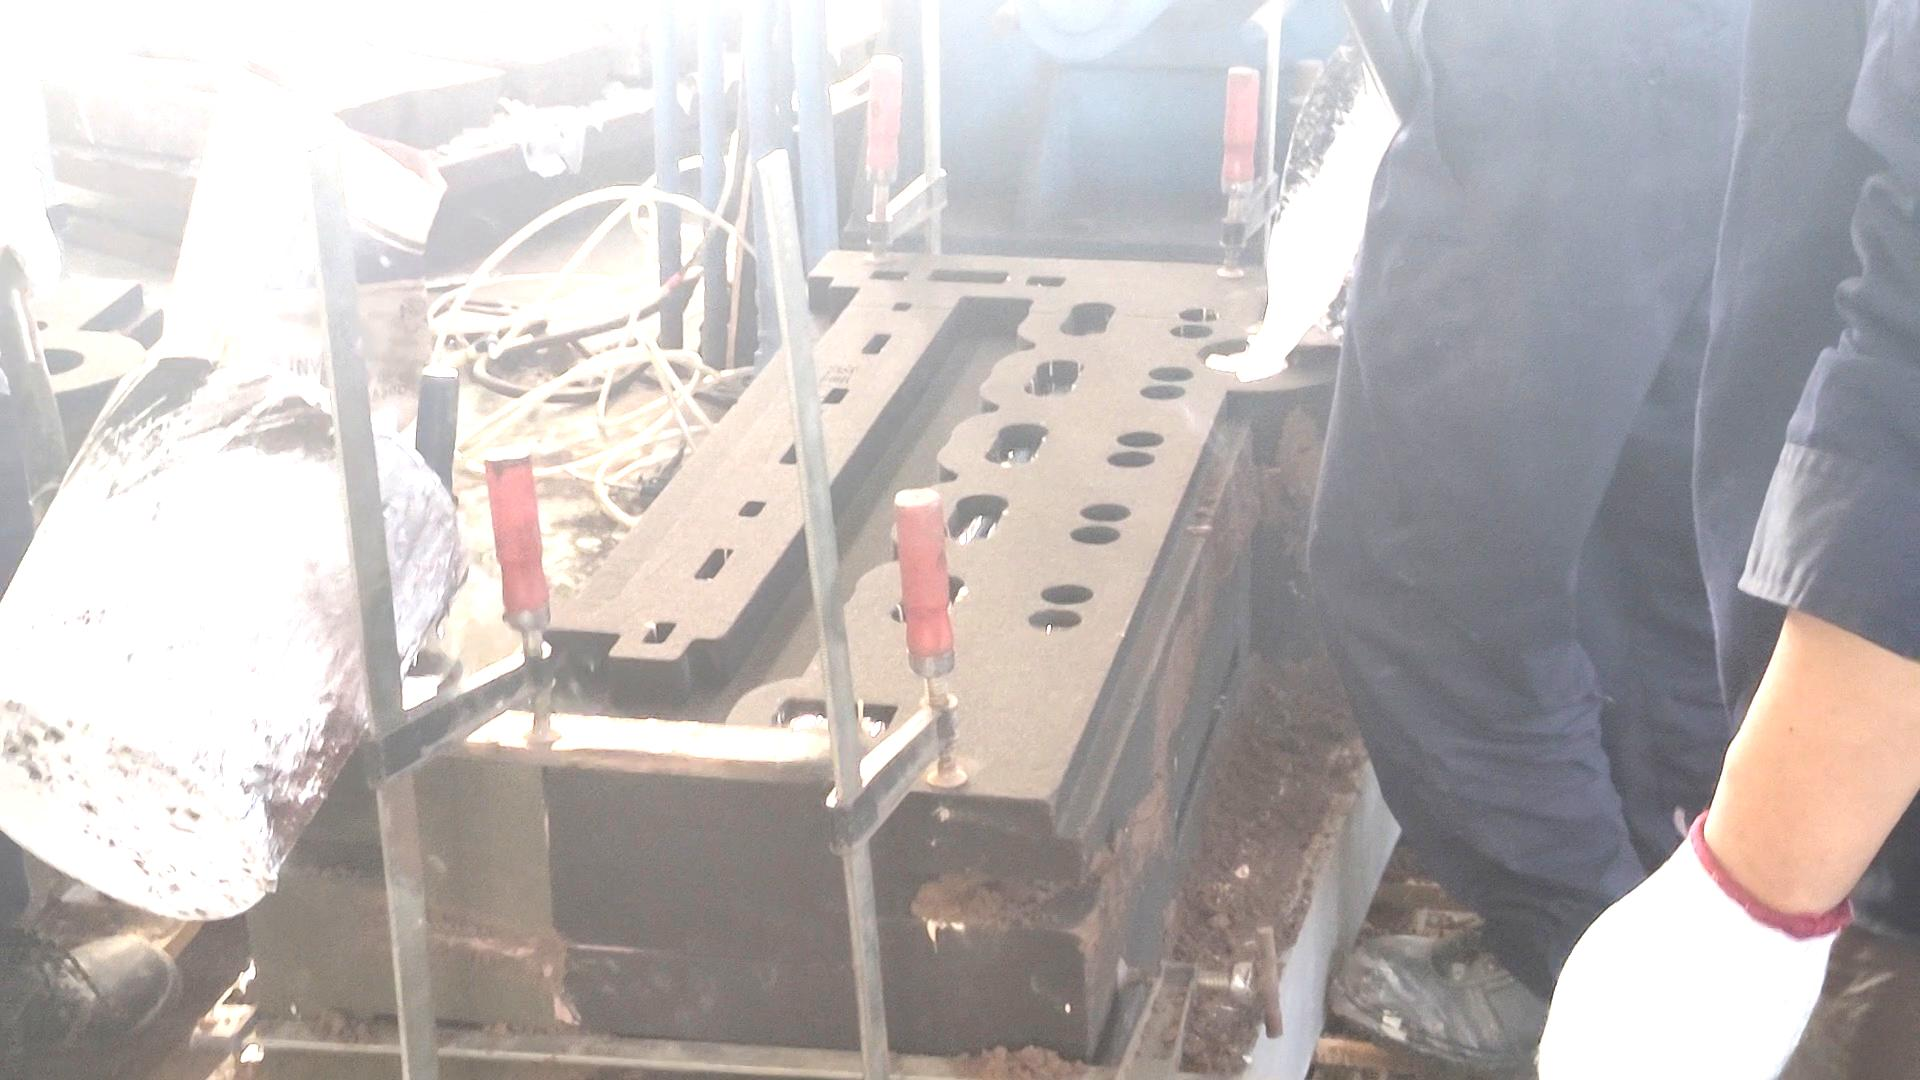pouring hole: (345, 644, 462, 709), (1193, 335, 1295, 377), (11, 345, 86, 378)
